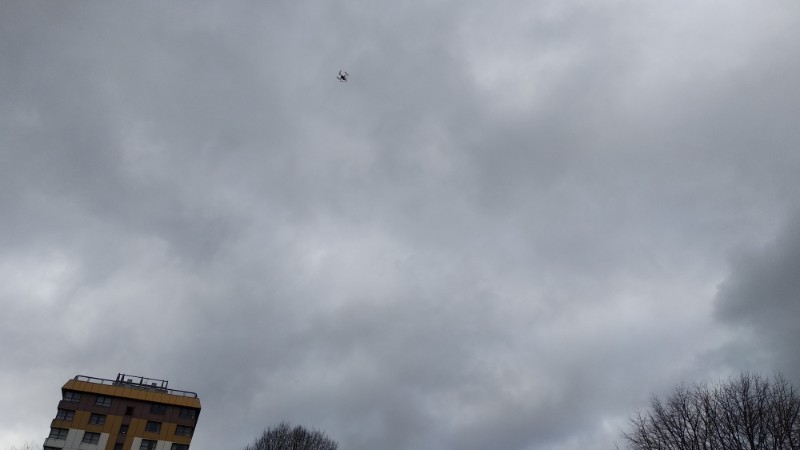drone: (337, 71, 349, 83)
